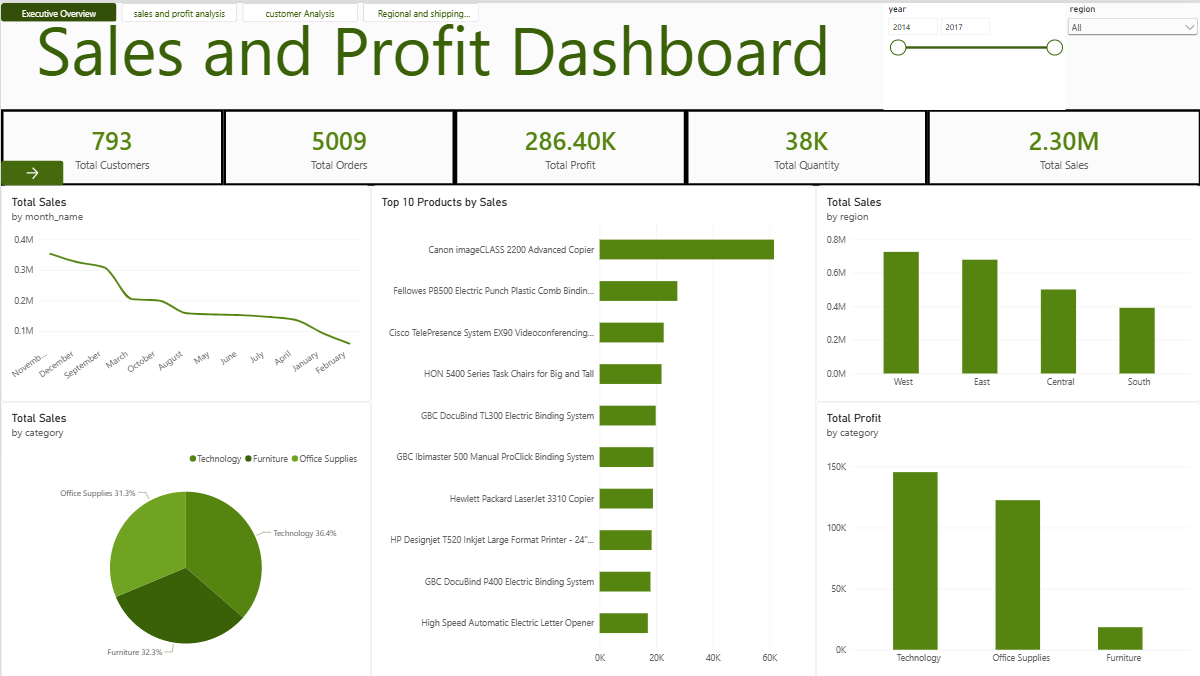

The page's visual inventory and layout, read from the dashboard file:
{"tool":"powerbi","page":{"name":"Executive Overview","canvas":[1920,1080],"ordinal":0},"visuals":[{"type":"card","fields":{"Values":["fact_sales.Total Customers"]},"box":[0,170,356,122],"z":0},{"type":"card","fields":{"Values":["fact_sales.Total Profit"]},"box":[726,170,370,122],"z":1000},{"type":"card","fields":{"Values":["fact_sales.Total Quantity"]},"box":[1096,170,386,122],"z":2000},{"type":"card","fields":{"Values":["fact_sales.Total Sales"]},"box":[1482,170,438,122],"z":3000},{"type":"card","fields":{"Values":["fact_sales.Total Orders"]},"box":[356,170,370,122],"z":4000},{"type":"lineChart","fields":{"Category":["dim_date.month_name"],"Y":["fact_sales.Total Sales"]},"box":[0,292,592,346],"z":5000},{"type":"clusteredColumnChart","fields":{"Category":["dim_location.region"],"Y":["fact_sales.Total Sales"]},"box":[1304,292,616,346],"z":6000},{"type":"clusteredColumnChart","fields":{"Category":["dim_product.category"],"Y":["fact_sales.Total Profit"]},"box":[1304,638,616,442],"z":7000},{"type":"clusteredBarChart","title":"Top 10 Products by Sales","fields":{"Category":["dim_product.product_name"],"Y":["fact_sales.Total Sales"]},"box":[592,292,712,788],"z":8000},{"type":"slicer","fields":{"Values":["dim_date.year"]},"box":[1412,0,290,170],"z":9000},{"type":"slicer","fields":{"Values":["dim_location.region"]},"box":[1702,0,218,170],"z":10000},{"type":"textbox","box":[0,0,1412,170],"z":11000},{"type":"pieChart","fields":{"Category":["dim_product.category"],"Y":["fact_sales.Total Sales"]},"box":[0,638,592,442],"z":12000},{"type":"pageNavigator","box":[0,0,766,30],"z":13000},{"type":"actionButton","box":[0,252,100,40],"z":14000}]}

Visuals, with their boxes in screenshot pixels (x1, y1, x2, y2), scaled from the page's 1920x1080 canvas onto the 1200x676 screenshot:
card - fact_sales.Total Customers: Rect(0, 106, 222, 183)
card - fact_sales.Total Profit: Rect(454, 106, 685, 183)
card - fact_sales.Total Quantity: Rect(685, 106, 926, 183)
card - fact_sales.Total Sales: Rect(926, 106, 1199, 183)
card - fact_sales.Total Orders: Rect(222, 106, 454, 183)
lineChart - dim_date.month_name x fact_sales.Total Sales: Rect(0, 183, 370, 399)
clusteredColumnChart - dim_location.region x fact_sales.Total Sales: Rect(815, 183, 1199, 399)
clusteredColumnChart - dim_product.category x fact_sales.Total Profit: Rect(815, 399, 1199, 675)
"Top 10 Products by Sales" clusteredBarChart: Rect(370, 183, 815, 675)
slicer - dim_date.year: Rect(882, 0, 1064, 106)
slicer - dim_location.region: Rect(1064, 0, 1199, 106)
textbox: Rect(0, 0, 882, 106)
pieChart - dim_product.category x fact_sales.Total Sales: Rect(0, 399, 370, 675)
pageNavigator: Rect(0, 0, 479, 19)
actionButton: Rect(0, 158, 62, 183)
